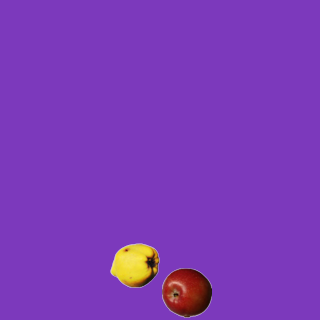Apple Braeburn: (161, 267, 211, 317)
Quince: (109, 240, 159, 290)
